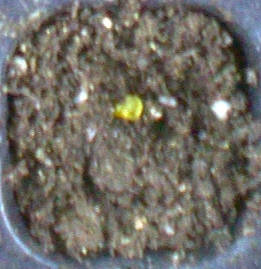pepper seed: (42, 32, 185, 153)
